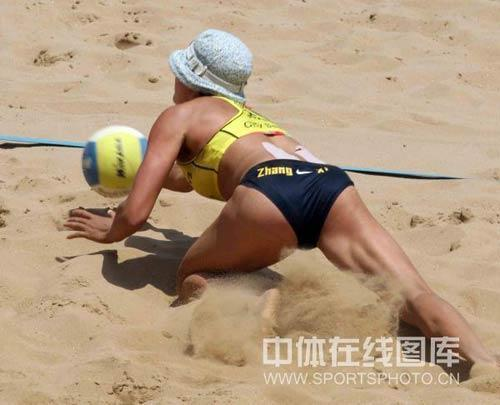Fall-Detected: (55, 31, 493, 368)
